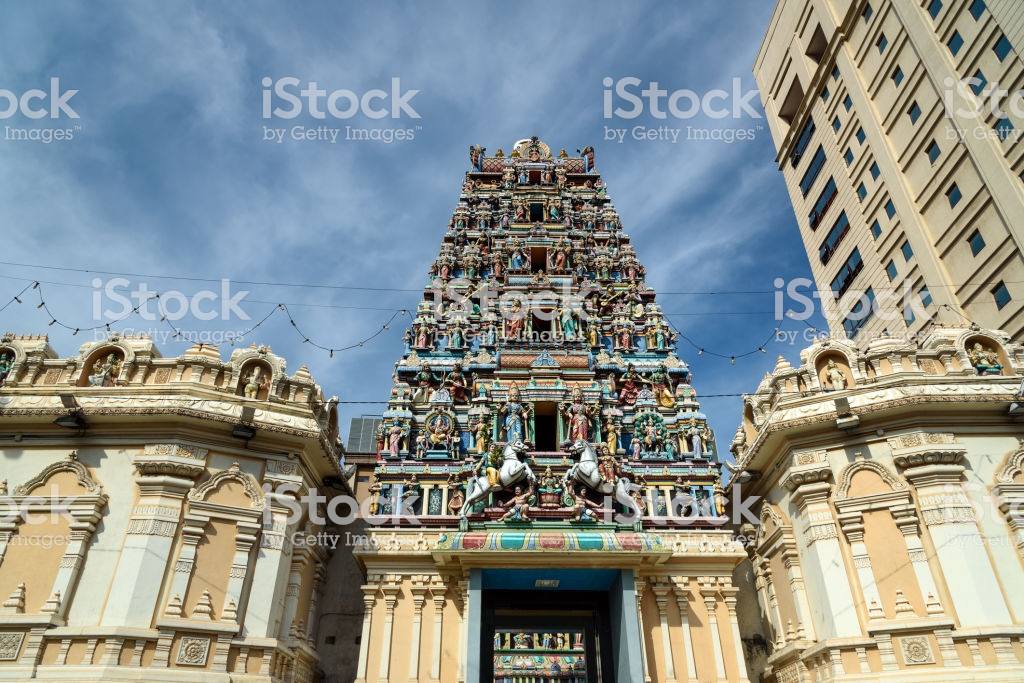Hindu Temple: (375, 135, 727, 683)
